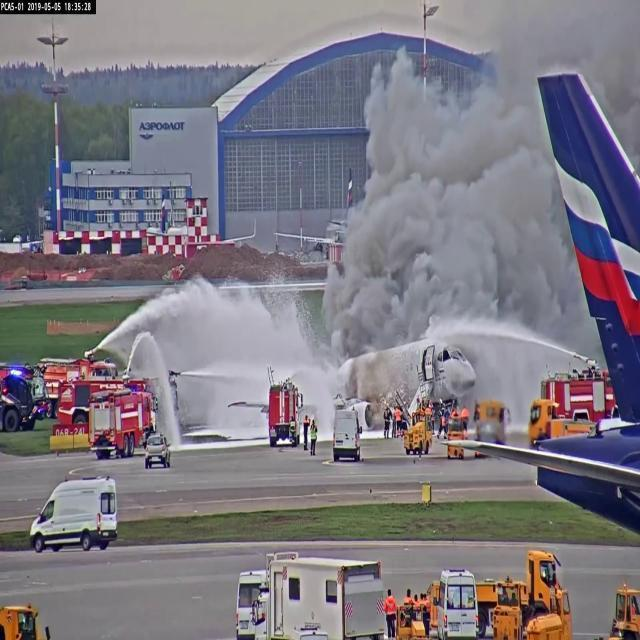Smoke: (380, 77, 538, 291)
